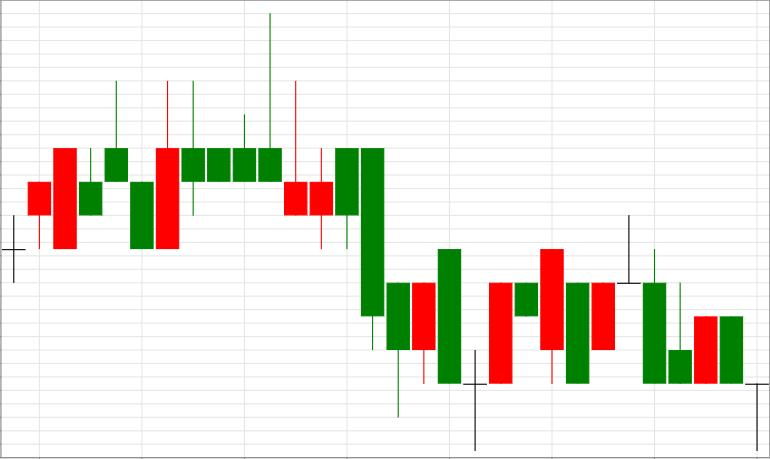morning_star_rise: (285, 80, 512, 450)
